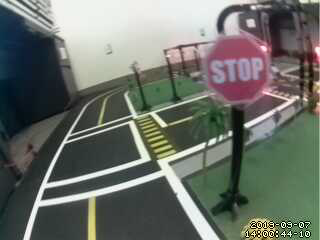Stop_Sign: (203, 32, 274, 111)
